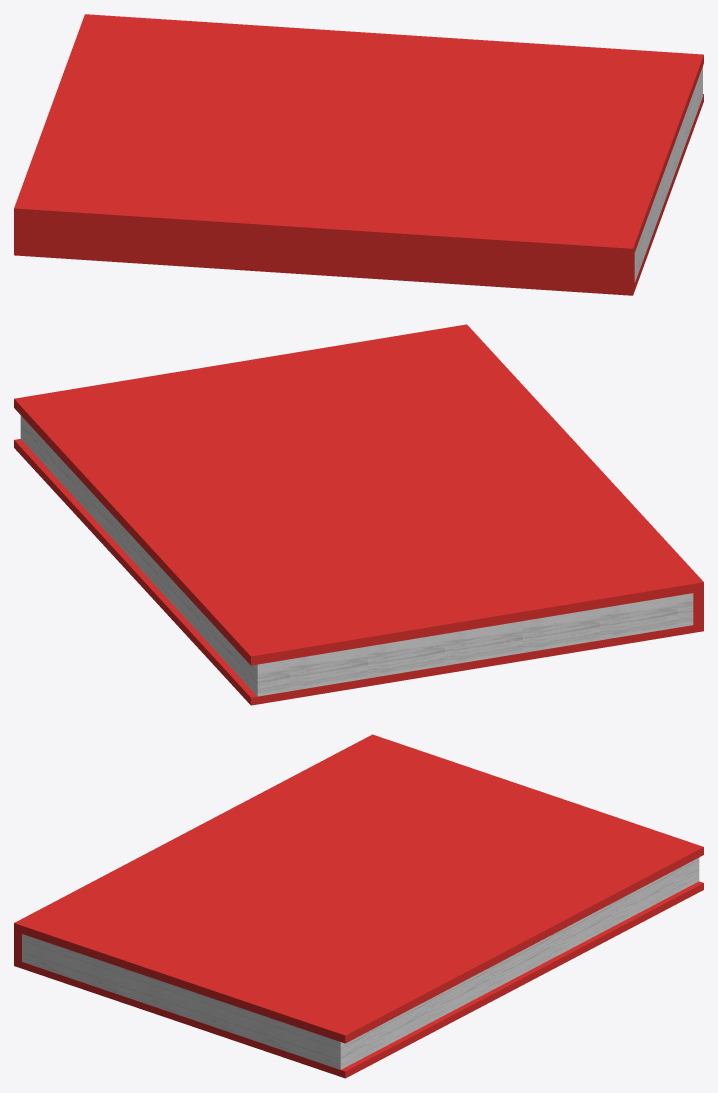
File: simplebook.fbx
The picture shows the model from 3 angles, top to bottom: view 1: azimuth 30°, elevation 25°; view 2: azimuth 150°, elevation 25°; view 3: azimuth 270°, elevation 25°; orthographic projection. The views are drawn at different scales.
Parts seen in each view (by area): view 1: simplebook; view 2: simplebook; view 3: simplebook.
Boxes of the visible parts, x1,y1,x2,y2 form: simplebook: [14, 14, 703, 295]; simplebook: [14, 324, 703, 705]; simplebook: [14, 734, 703, 1078].
Bounding box in the file's own units: 249 × 16.55 × 241.
2 materials, 1 textured.
